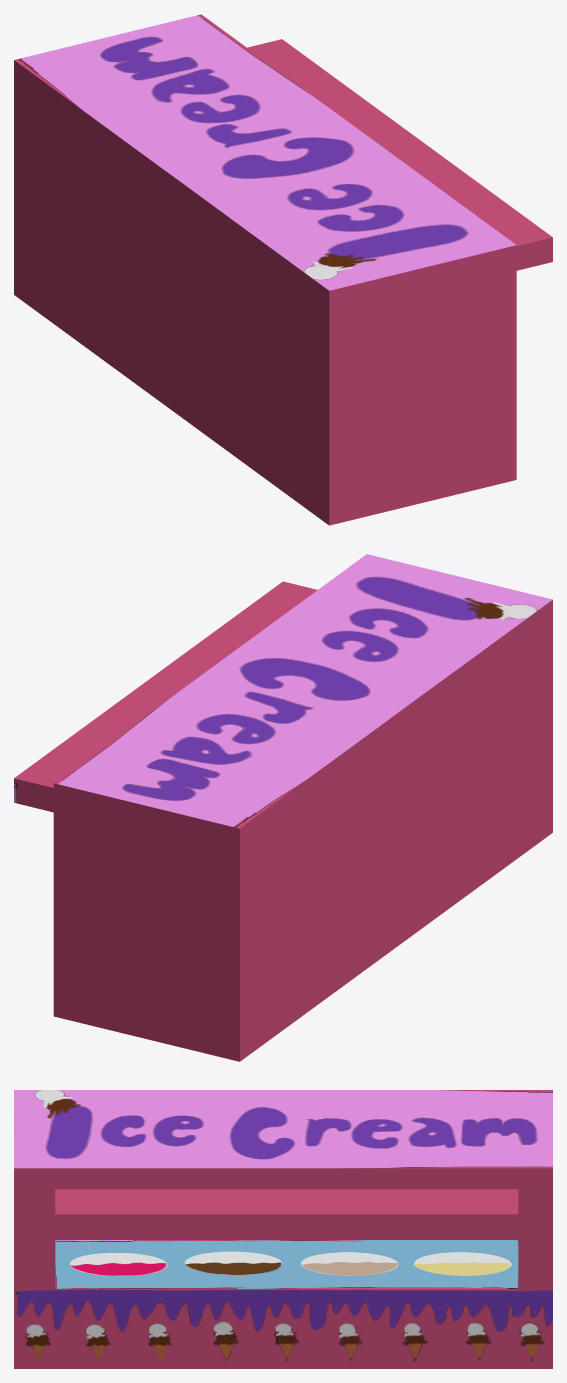
Rendered from IceCreamStation.fbx.
The picture shows the model from 3 angles, top to bottom: view 1: azimuth 30°, elevation 25°; view 2: azimuth 150°, elevation 25°; view 3: azimuth 270°, elevation 25°; orthographic projection. The views are drawn at different scales.
Parts seen in each view (by area): view 1: IceCreamTruck; view 2: IceCreamTruck; view 3: IceCreamTruck.
Part boxes in pixels (left/top/right/bottom): IceCreamTruck: left=14, top=14, right=552, bottom=525; IceCreamTruck: left=14, top=554, right=552, bottom=1061; IceCreamTruck: left=14, top=1090, right=552, bottom=1368.
Size of the model in its own units: 264 by 239 by 583.
